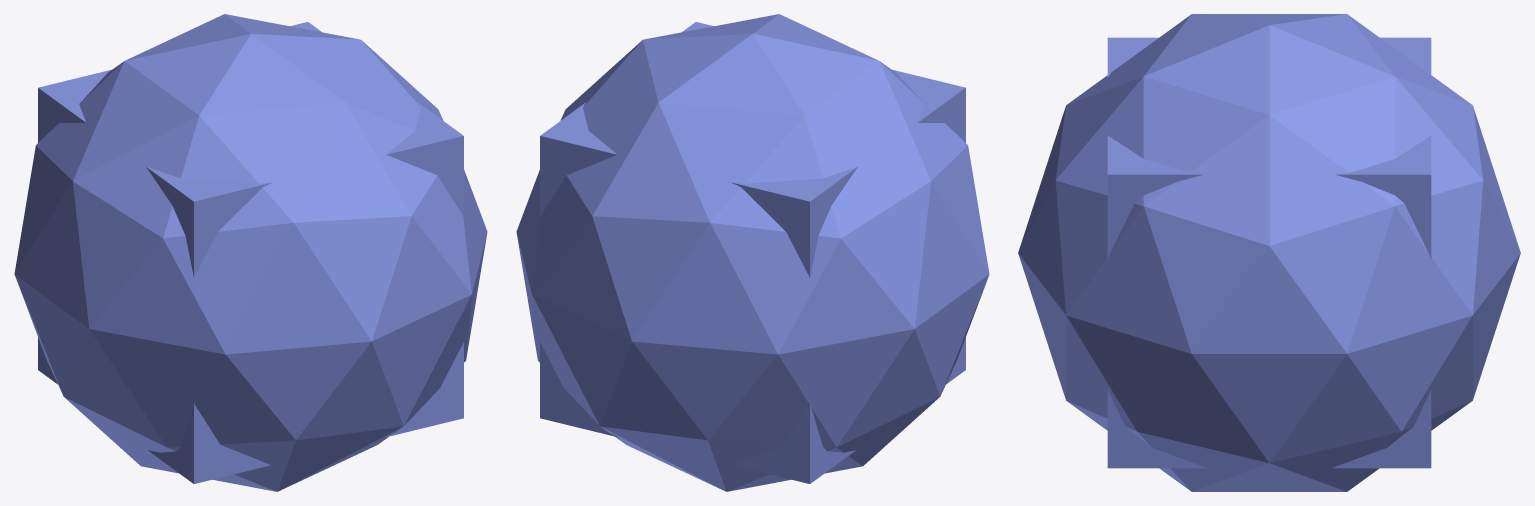
File: NaturalBomb.fbx
3 renders of one model, left to right at view 1: azimuth 30°, elevation 25°; view 2: azimuth 150°, elevation 25°; view 3: azimuth 270°, elevation 25°, orthographic. The views are drawn at different scales.
Visible parts, largest first — view 1: Icosphere; view 2: Icosphere; view 3: Icosphere.
Part boxes in pixels (x1,y1,x2,y2): Icosphere: (14,14,487,491); Icosphere: (516,14,989,491); Icosphere: (1018,14,1520,491).
Bounding box in the file's own units: 190 × 200 × 200.
